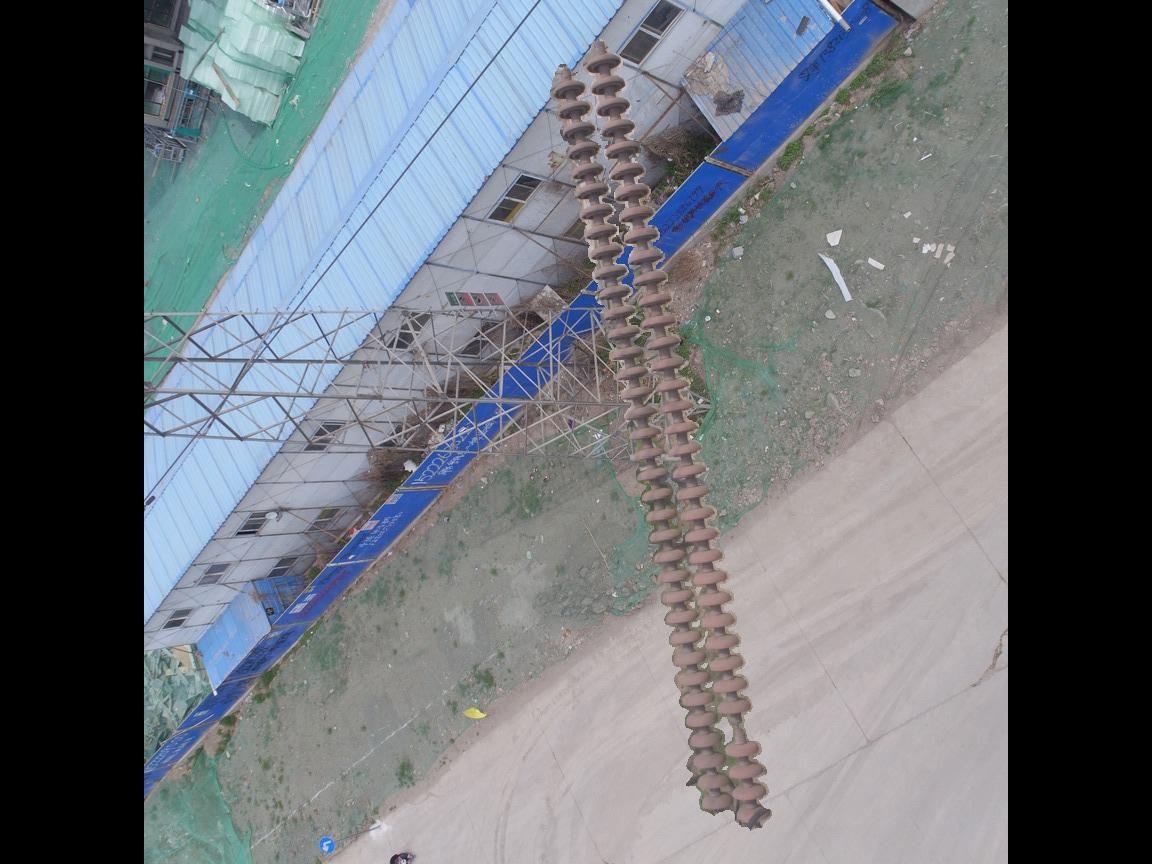insulator: (548, 51, 778, 834)
insulator_stringdrop: (713, 693, 764, 763)
